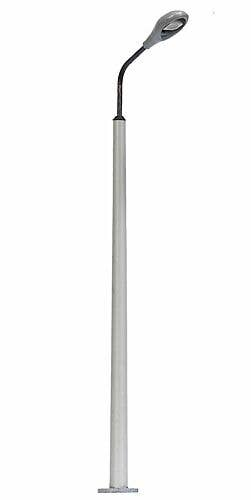light_pole: (104, 69, 138, 496)
